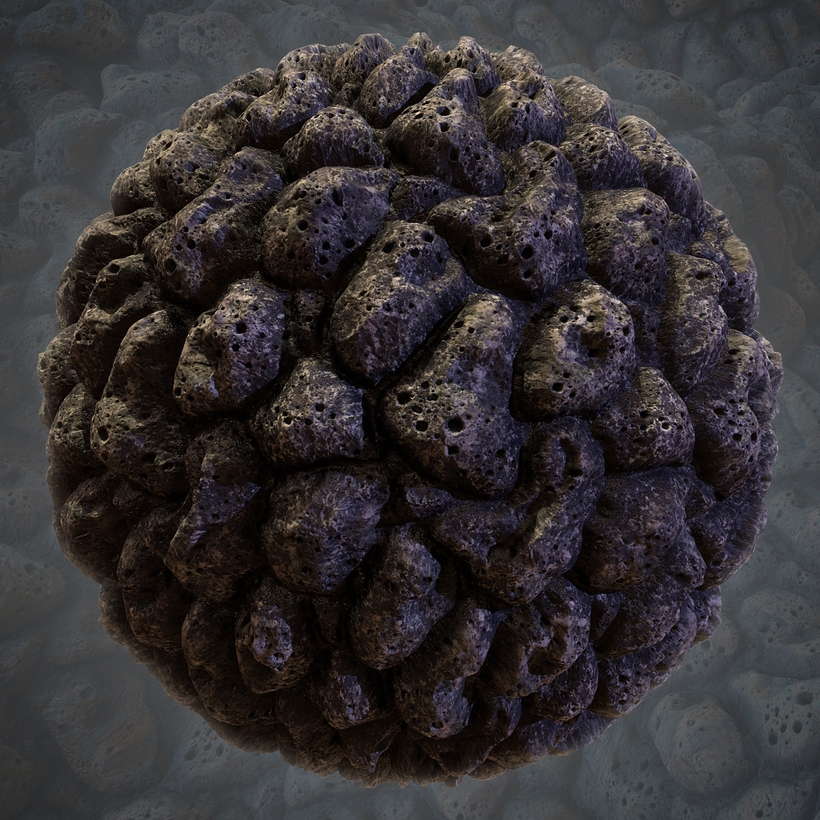volcanic_rock: (422, 430, 626, 609), (384, 281, 549, 489), (153, 121, 304, 312), (426, 138, 582, 287), (338, 212, 469, 372), (244, 478, 402, 599), (153, 285, 300, 407), (526, 272, 629, 412), (389, 74, 506, 187), (693, 370, 771, 481)
